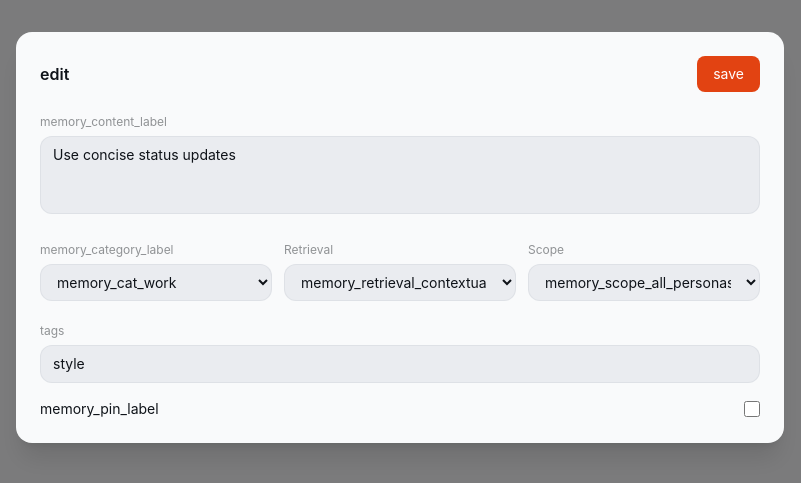
Test: MemoryPageDialogs › updates existing memories and keeps the dialog open on save failure
Replace the text in the text box showing "Use concise status updates" with "Use bullet summaries" at (400, 174), box [40, 136, 760, 214]
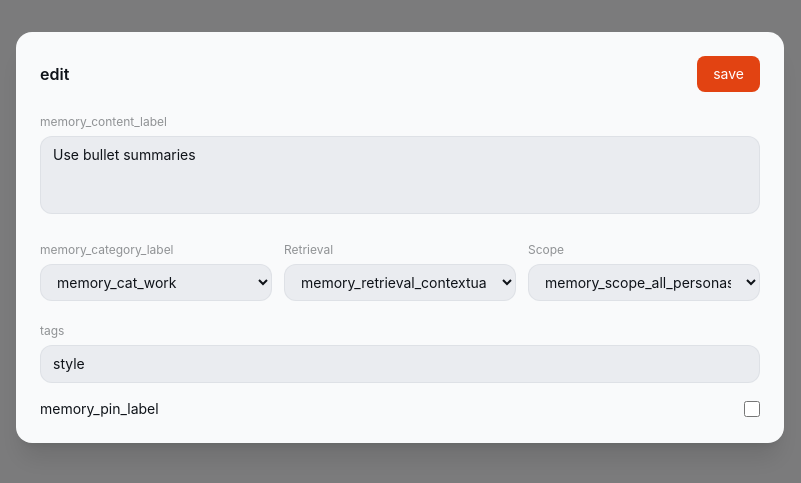
Click the button "save" at (729, 74), box [697, 56, 760, 92]
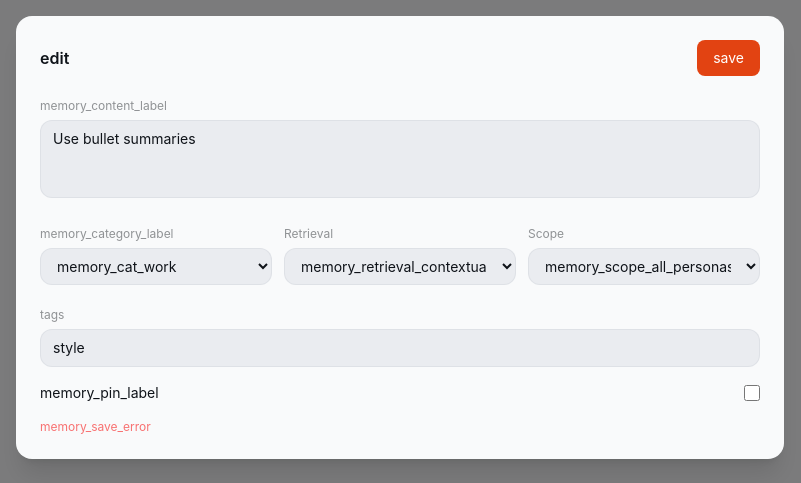
Check: the text "memory_save_error" is shown, box [40, 418, 151, 434]
